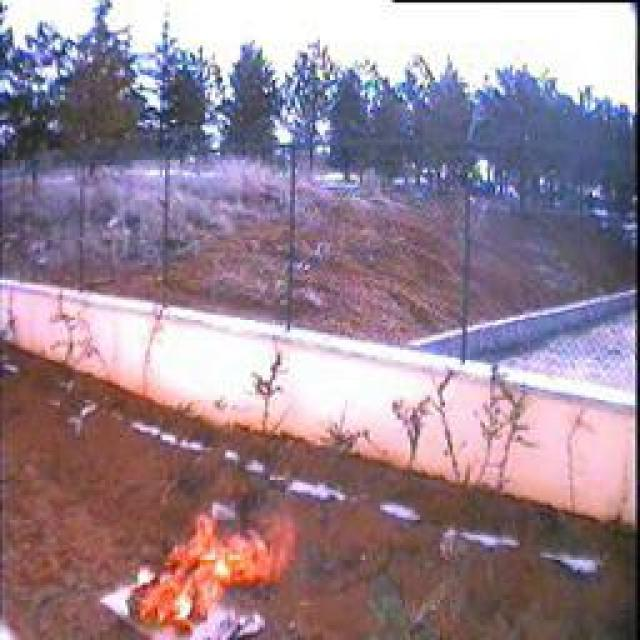Fire: (116, 498, 303, 637)
